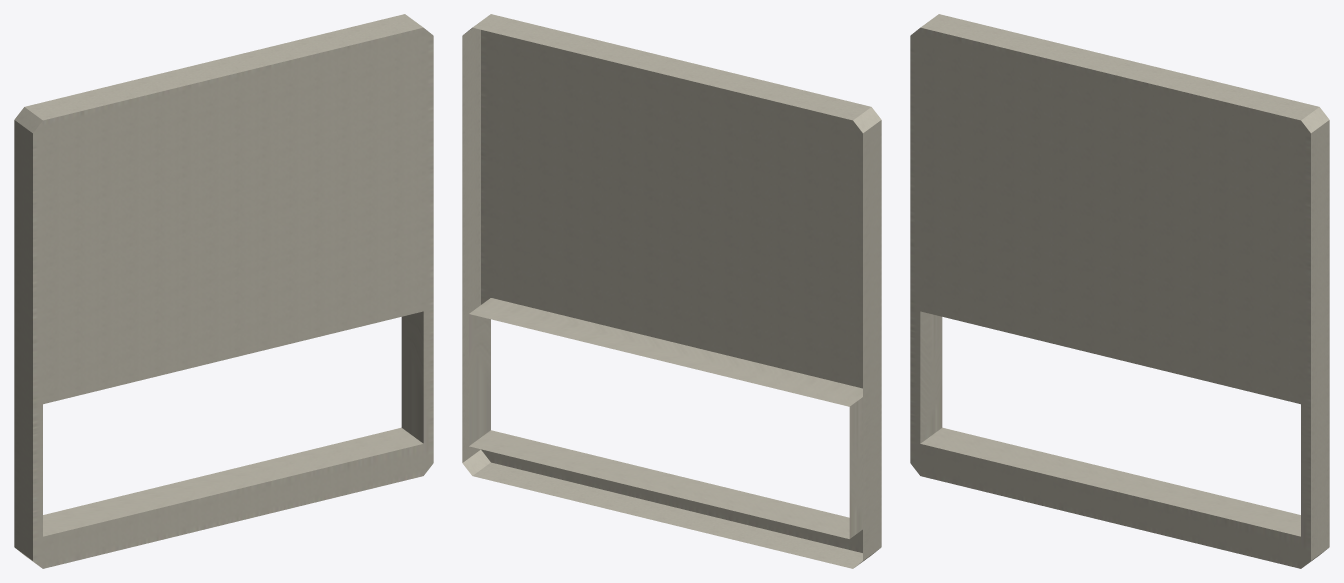
File: WallpCube125.fbx
3 views of the same model, side by side, from view 1: azimuth 30°, elevation 25°; view 2: azimuth 150°, elevation 25°; view 3: azimuth 330°, elevation 25° (orthographic).
Visible parts, largest first — view 1: pCube125; view 2: pCube125; view 3: pCube125.
Boxes of the visible parts, left/top/right/bottom form: pCube125: left=14, top=14, right=433, bottom=568; pCube125: left=462, top=14, right=881, bottom=568; pCube125: left=910, top=14, right=1329, bottom=568.
Bounding box in the file's own units: 83.22 × 89.01 × 7.95.
